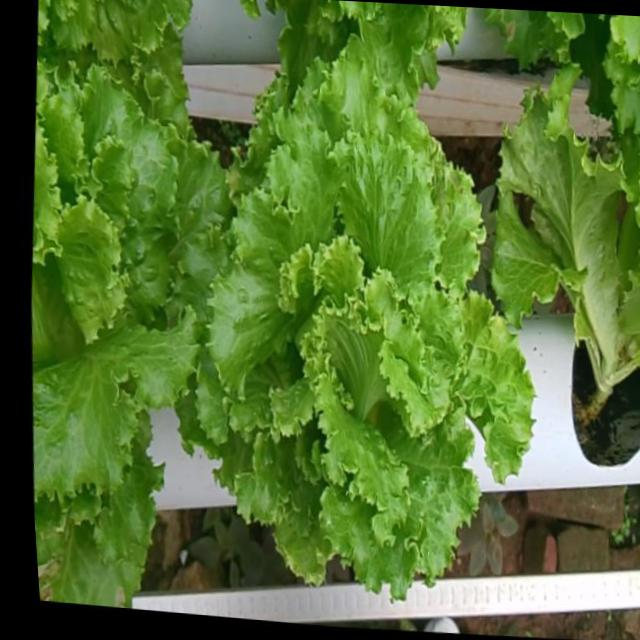Mature: (200, 68, 539, 616), (32, 76, 232, 521)
